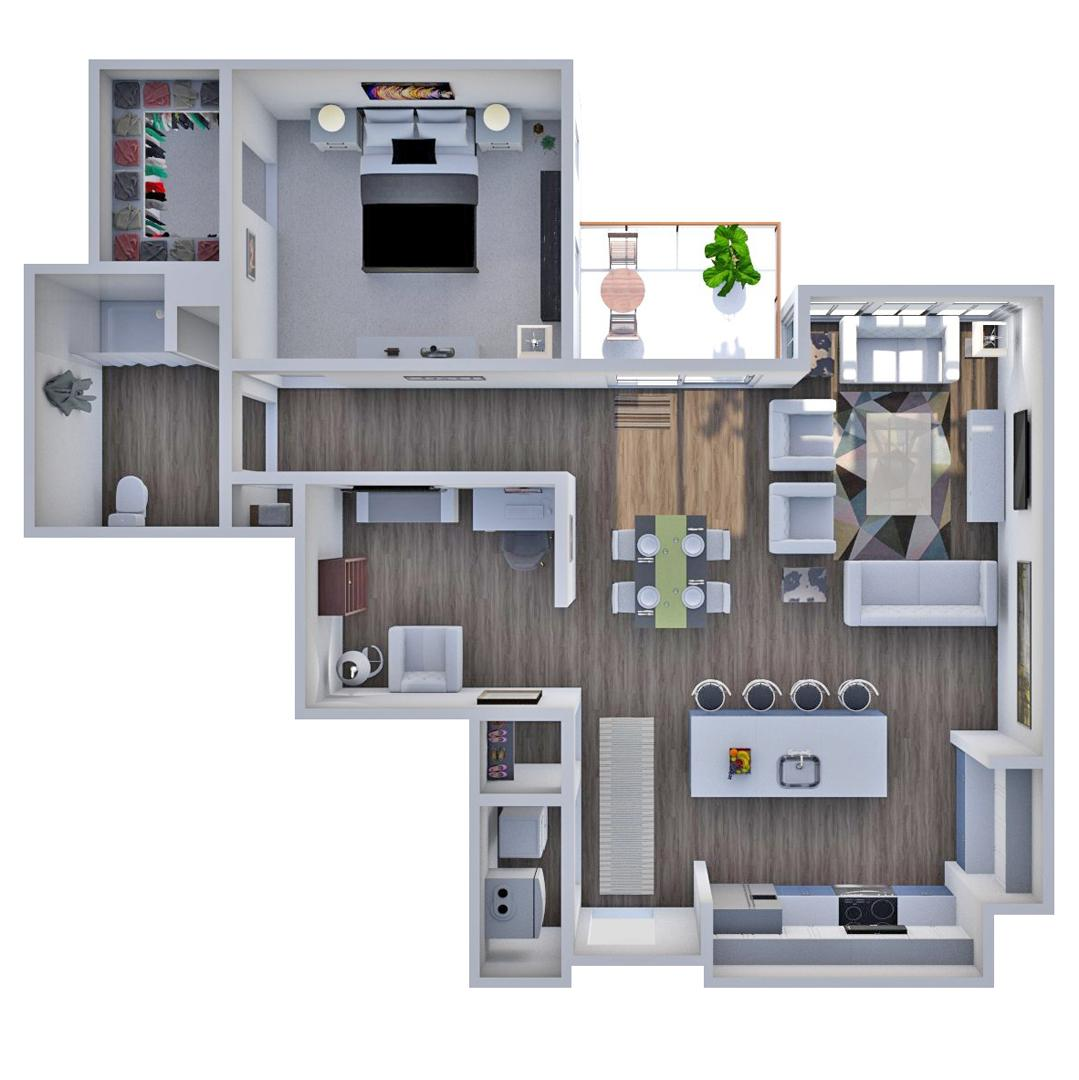room: (570, 362, 1055, 959), (226, 63, 569, 365), (300, 482, 565, 714), (30, 270, 225, 532), (95, 65, 224, 266), (474, 799, 567, 983)
